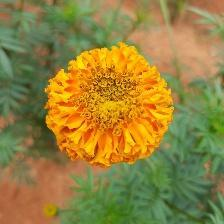marigold: (43, 42, 176, 169)
